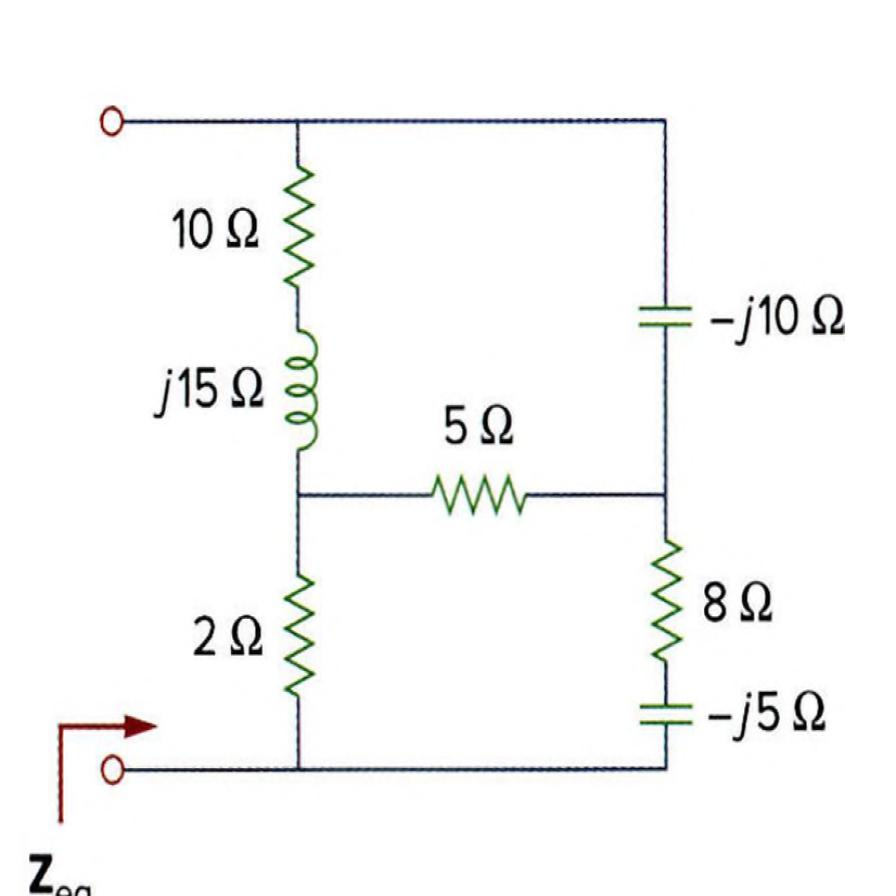C2: (632, 281, 702, 350), (625, 688, 702, 743)
L2: (264, 316, 338, 478)
